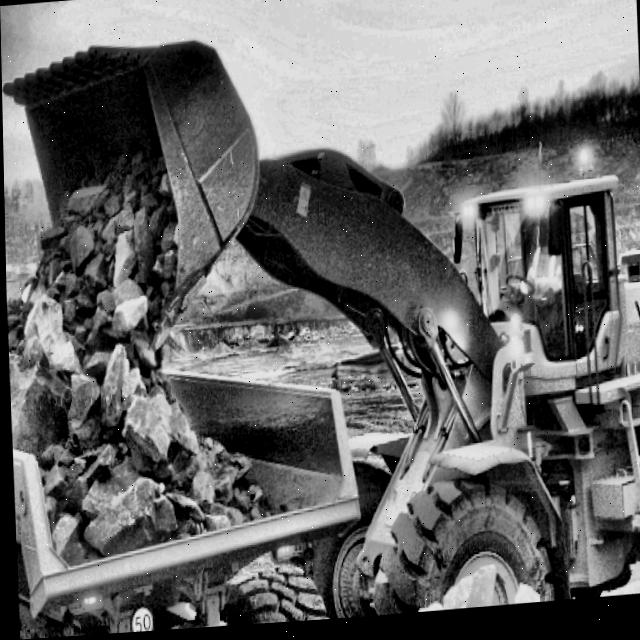buldozerpayloadergrader: (24, 0, 640, 639)
dump_truck: (5, 283, 344, 640)
